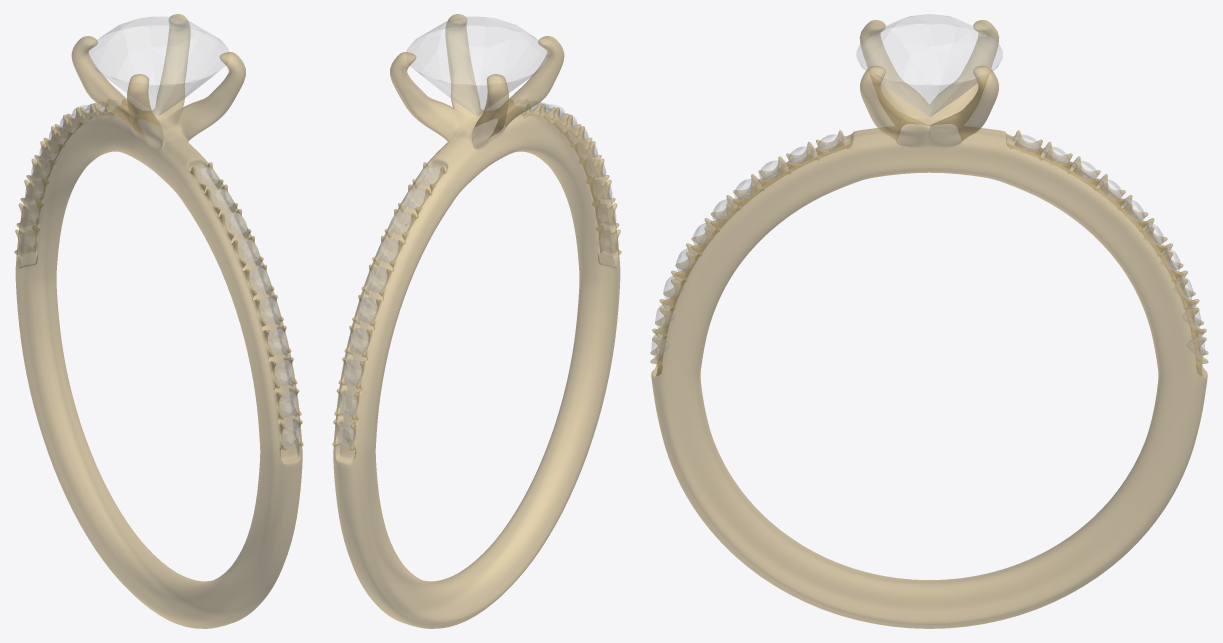
The picture shows the model from 3 angles, left to right: view 1: azimuth 30°, elevation 25°; view 2: azimuth 150°, elevation 25°; view 3: azimuth 270°, elevation 25°; orthographic projection. The views are drawn at different scales.
Parts seen in each view (by area): view 1: Ring, Diamond; view 2: Ring, Diamond; view 3: Ring, Diamond.
Part boxes in pixels (bbox=[...]): Ring: bbox=[14, 14, 303, 628]; Diamond: bbox=[19, 17, 299, 446]; Ring: bbox=[332, 14, 621, 628]; Diamond: bbox=[337, 17, 618, 445]; Ring: bbox=[650, 20, 1208, 628]; Diamond: bbox=[651, 14, 1205, 359].
Size of the model in its own units: 0.6116 by 2.74 by 2.33.
